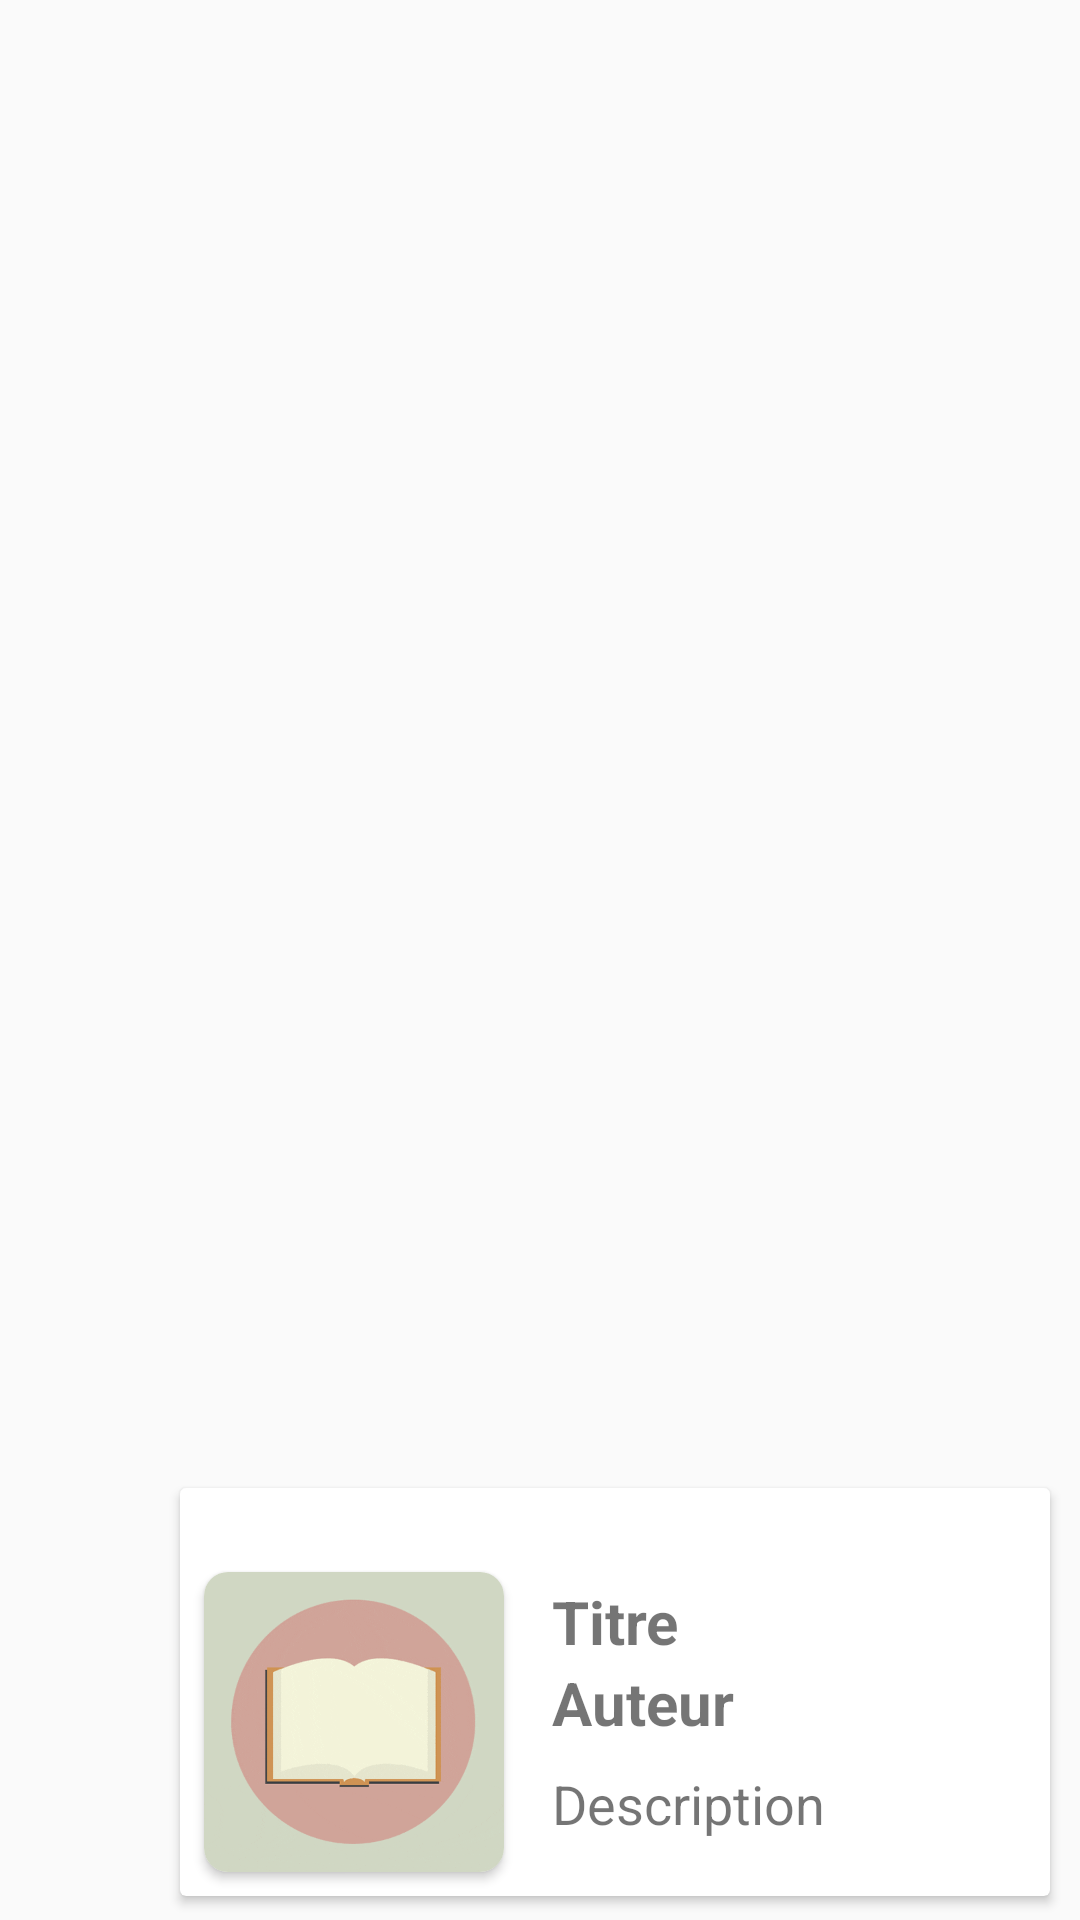

Point at icon controls on the screen. Image size 1080 x 1920, points as [x,y].
book: [354,1722]
